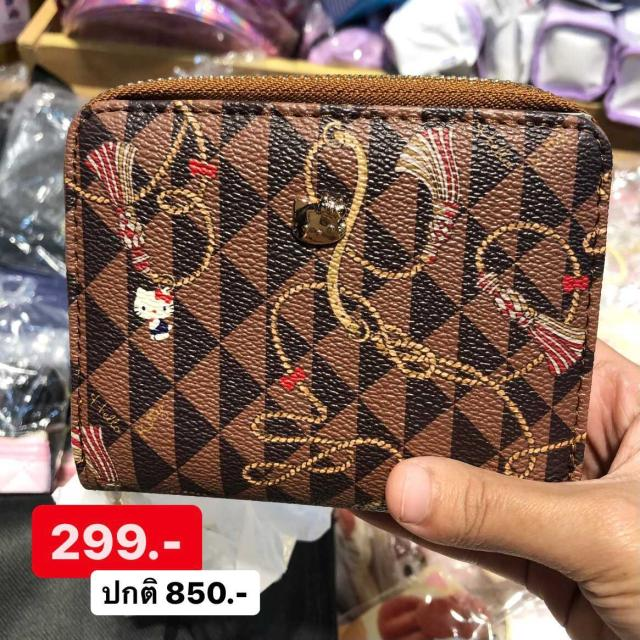Handbag: (58, 73, 620, 520)
